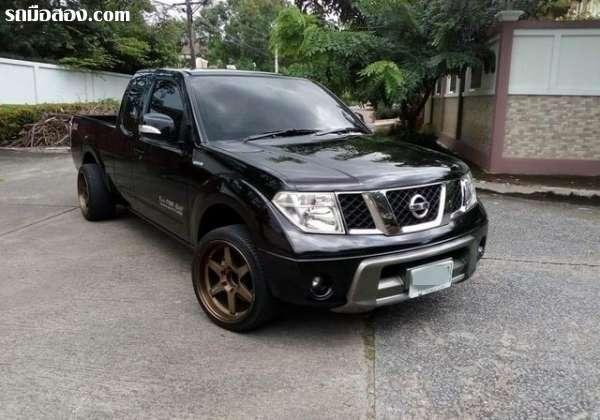pickup: (67, 66, 493, 340)
